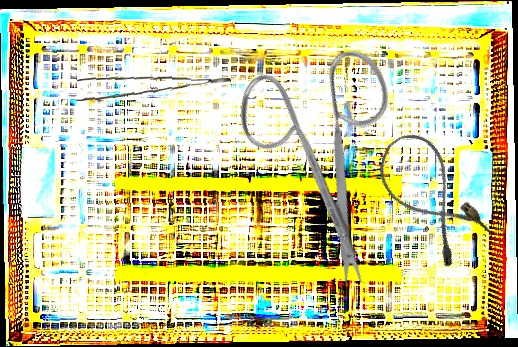Cannula: (366, 123, 496, 271)
Iris Scissors: (187, 8, 478, 296)
Tissue Forceps: (74, 70, 232, 109)
